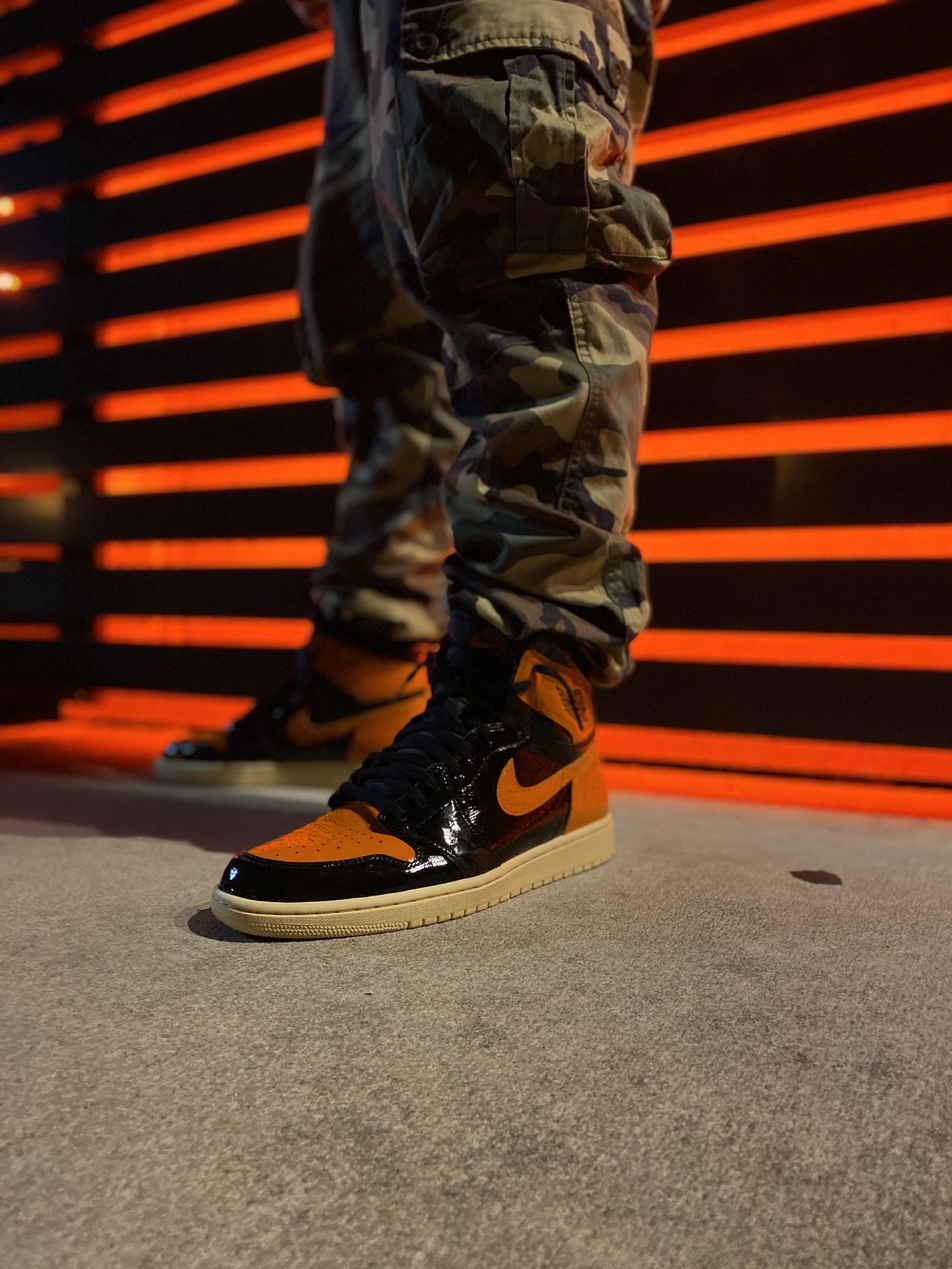sneaker: (204, 629, 630, 943), (145, 618, 448, 790)
